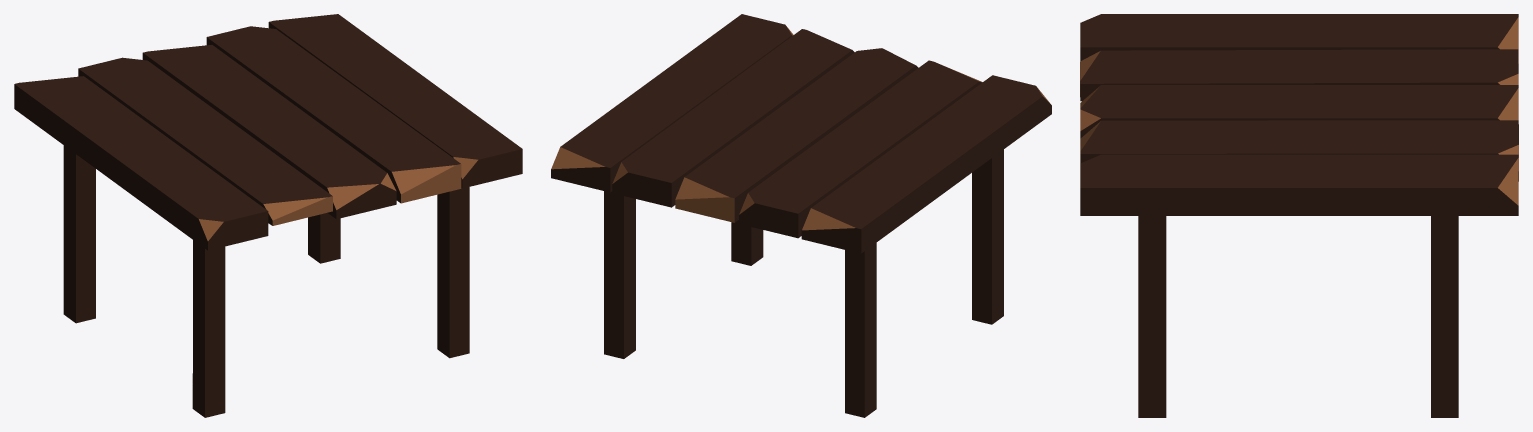
The model's file is SM_table_small.fbx.
The picture shows the model from 3 angles, left to right: view 1: azimuth 30°, elevation 25°; view 2: azimuth 150°, elevation 25°; view 3: azimuth 270°, elevation 25°; orthographic projection. The views are drawn at different scales.
Visible parts, largest first — view 1: Box007; view 2: Box007; view 3: Box007.
Part boxes in pixels (box(x1,y1,x2,y2)): Box007: box(14, 14, 522, 417); Box007: box(551, 14, 1051, 417); Box007: box(1080, 14, 1518, 417).
Size of the model in its own units: 39.94 by 26.26 by 42.61.
